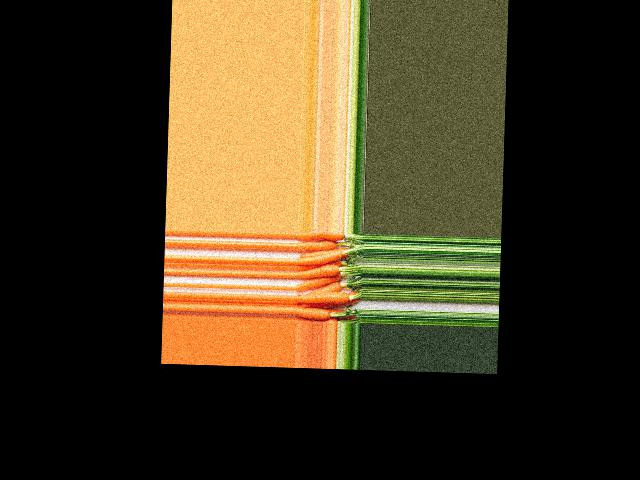carrot: (293, 307, 337, 322)
